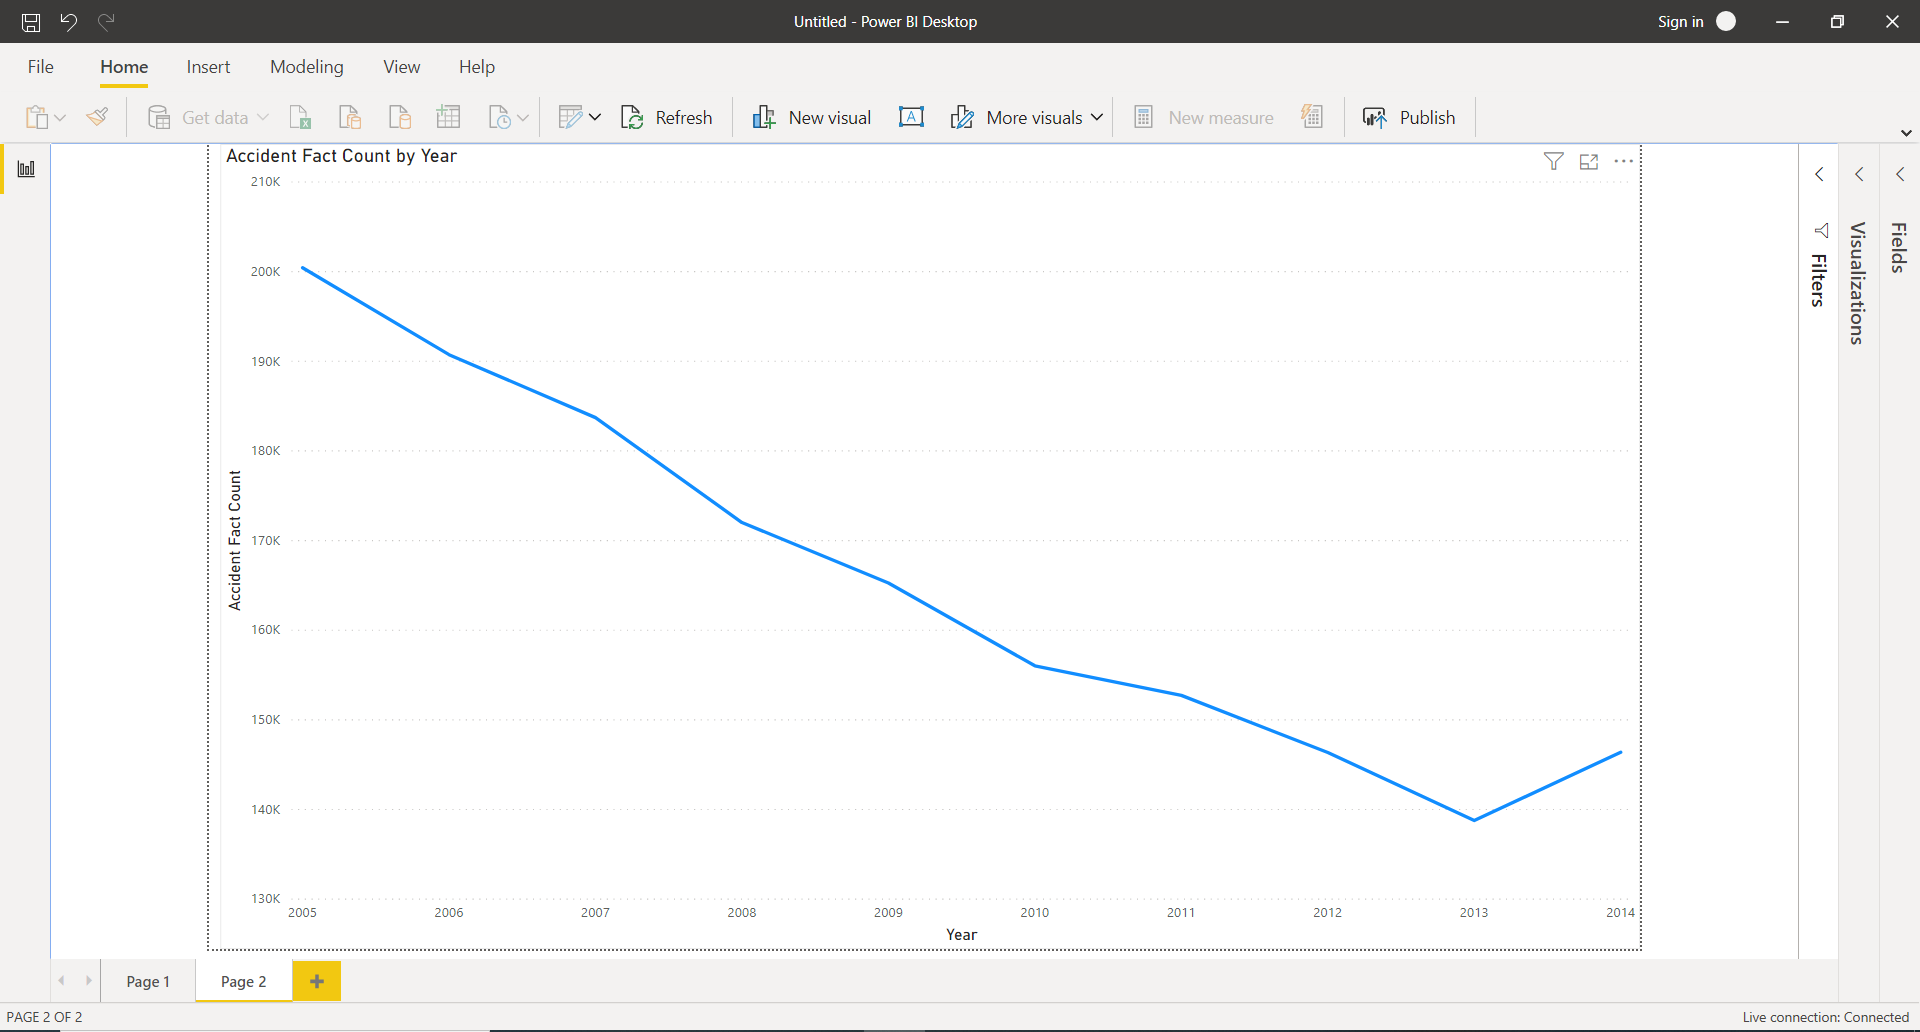

This screenshot's page, from the dashboard's own definition file:
{"tool":"powerbi","page":{"name":"Page 2","canvas":[1280,720],"ordinal":1},"visuals":[{"type":"lineStackedColumnComboChart","fields":{"Category":["Date Dim.Year"],"Y2":["Accident Fact.Accident Fact Count"]},"box":[9.6,0,1270.4,720.3],"z":0}]}

Visuals, with their boxes on the page's 1280x720 design canvas (x1, y1, x2, y2). These are canvas units, not pixel positions in the 1920x1032 screenshot, which may show the page scaled, cropped or inside an application window:
lineStackedColumnComboChart - Date Dim.Year x Accident Fact.Accident Fact Count: Rect(10, 0, 1280, 720)
